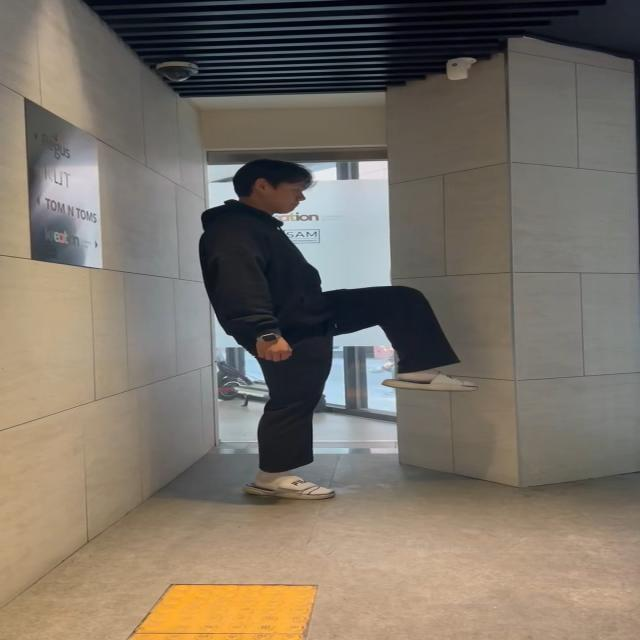knee: (316, 282, 490, 417)
